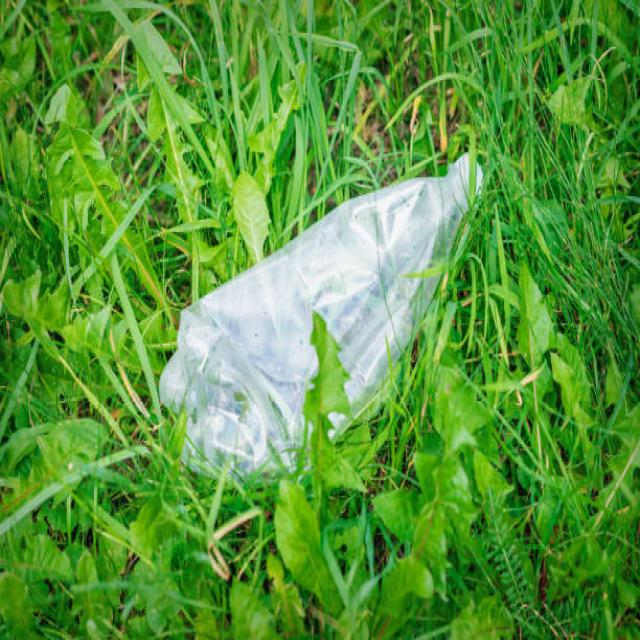plastic: (159, 160, 483, 473)
